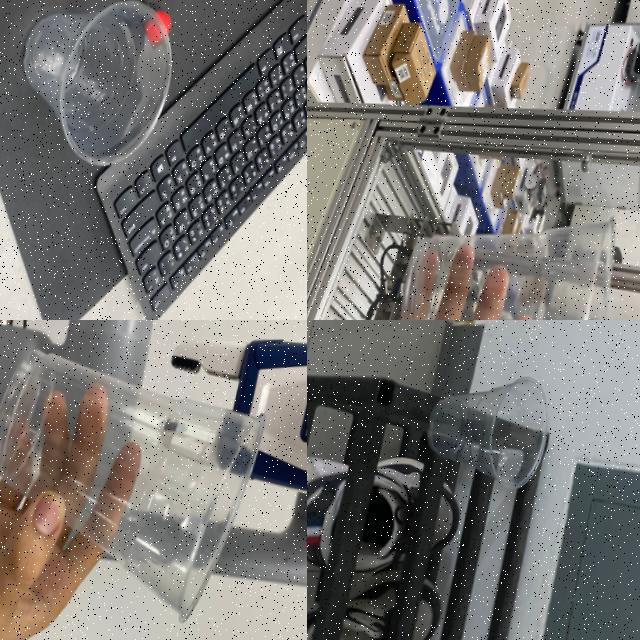glass: (0, 338, 286, 624), (15, 0, 191, 171), (396, 196, 632, 320), (422, 361, 562, 490)
